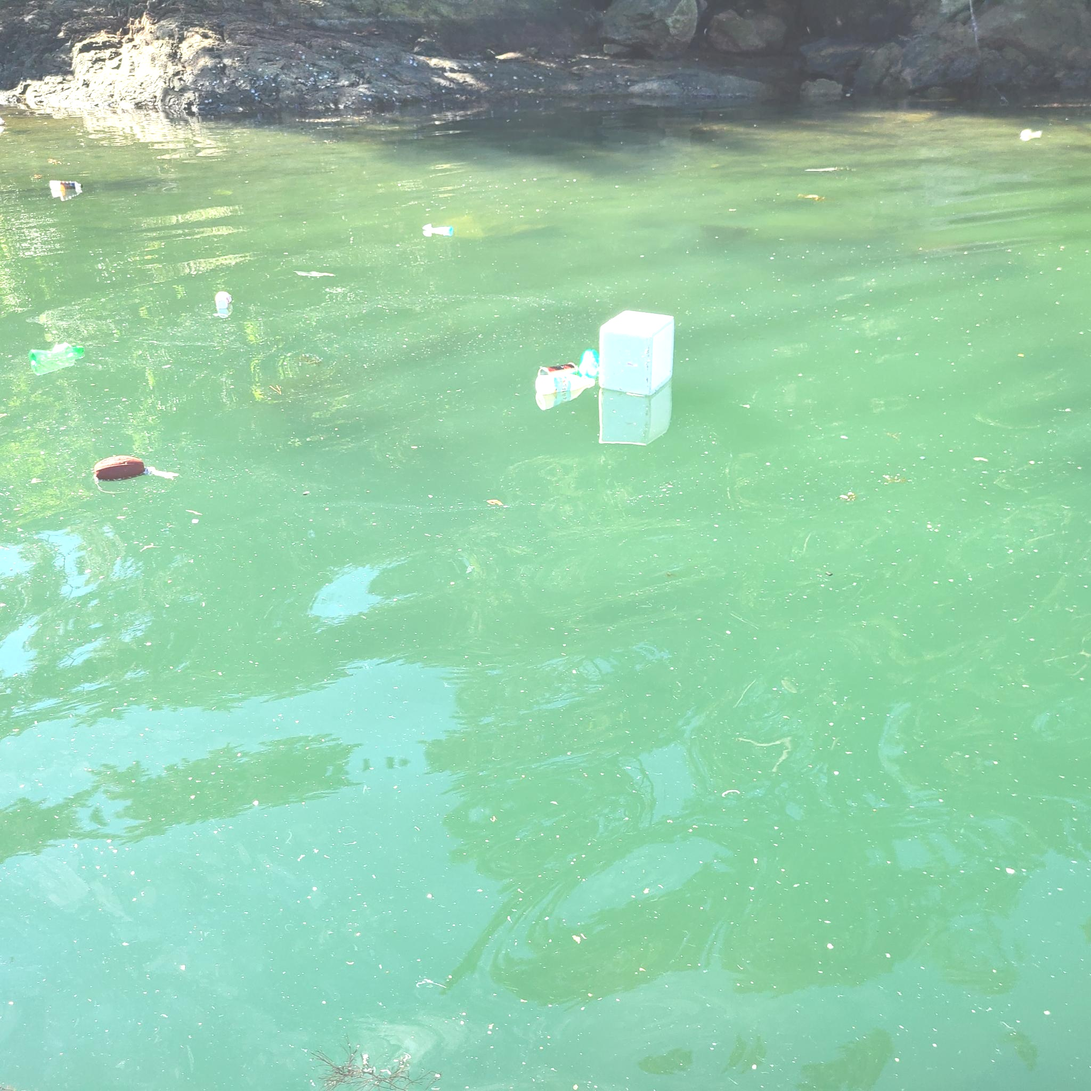sampah_terapung: (599, 311, 674, 396), (535, 374, 596, 396), (94, 457, 145, 482), (29, 345, 84, 364), (538, 363, 579, 377), (145, 467, 179, 481), (50, 181, 84, 191), (216, 292, 233, 309), (422, 224, 453, 233)
